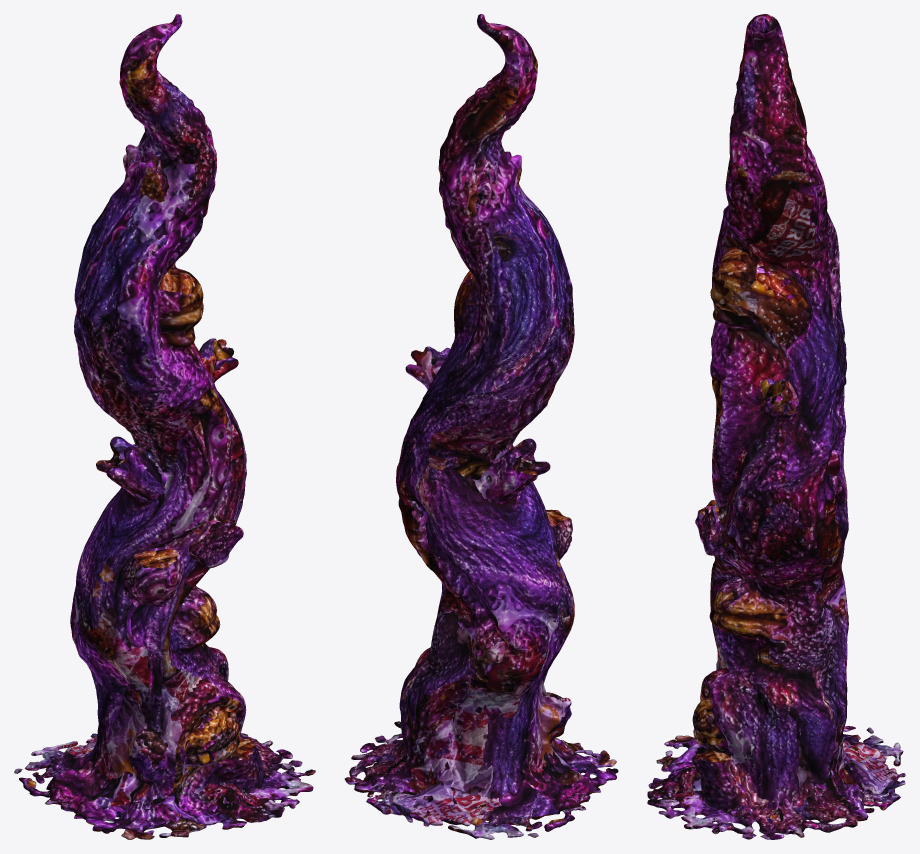
Rendered from tentacle.glb.
3 views of the same model, side by side, from view 1: azimuth 30°, elevation 25°; view 2: azimuth 150°, elevation 25°; view 3: azimuth 270°, elevation 25° (orthographic).
Parts seen in each view (by area): view 1: temp_mesh.ply.004; view 2: temp_mesh.ply.004; view 3: temp_mesh.ply.004.
Part boxes in pixels (<box>): temp_mesh.ply.004: <box>14,14,315,839</box>; temp_mesh.ply.004: <box>344,14,618,839</box>; temp_mesh.ply.004: <box>647,14,905,839</box>.
Size of the model in its own units: 0.6324 by 1.97 by 0.601.
Materials: 1 (1 with a texture image).
